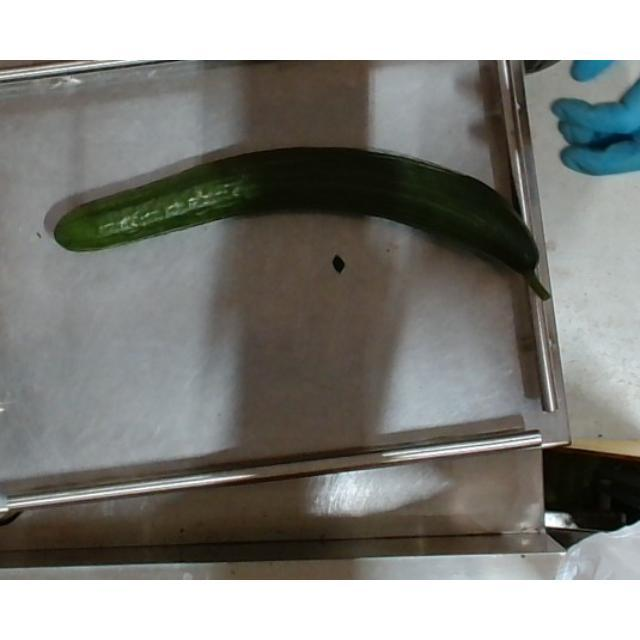cucumber: (54, 146, 552, 304)
